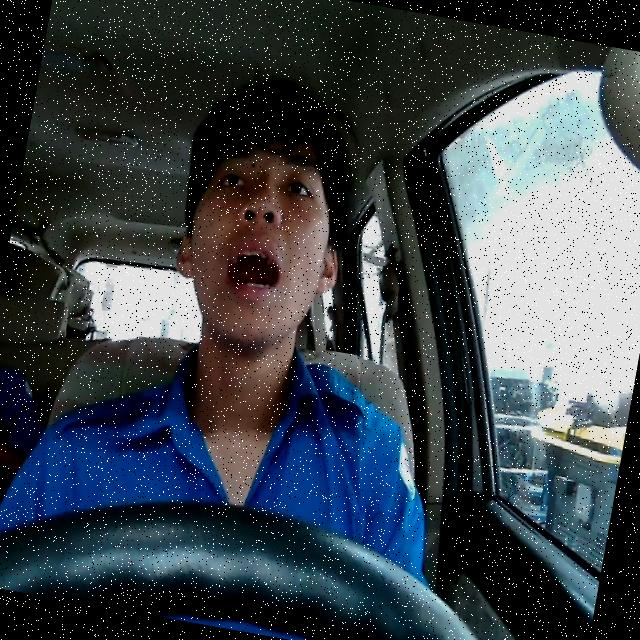yarning: (162, 124, 356, 360)
